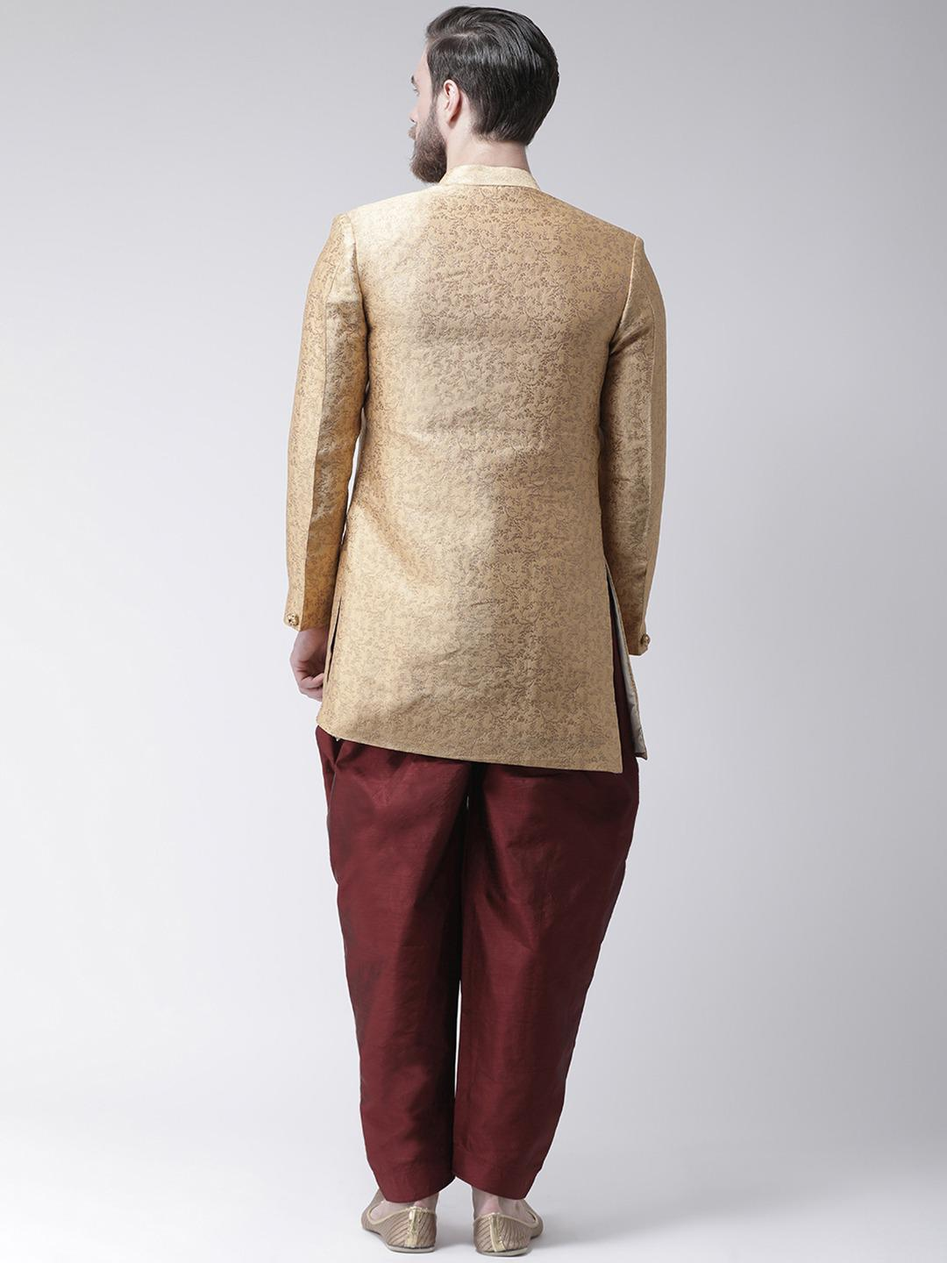Design Sherwani: (279, 172, 670, 775)
